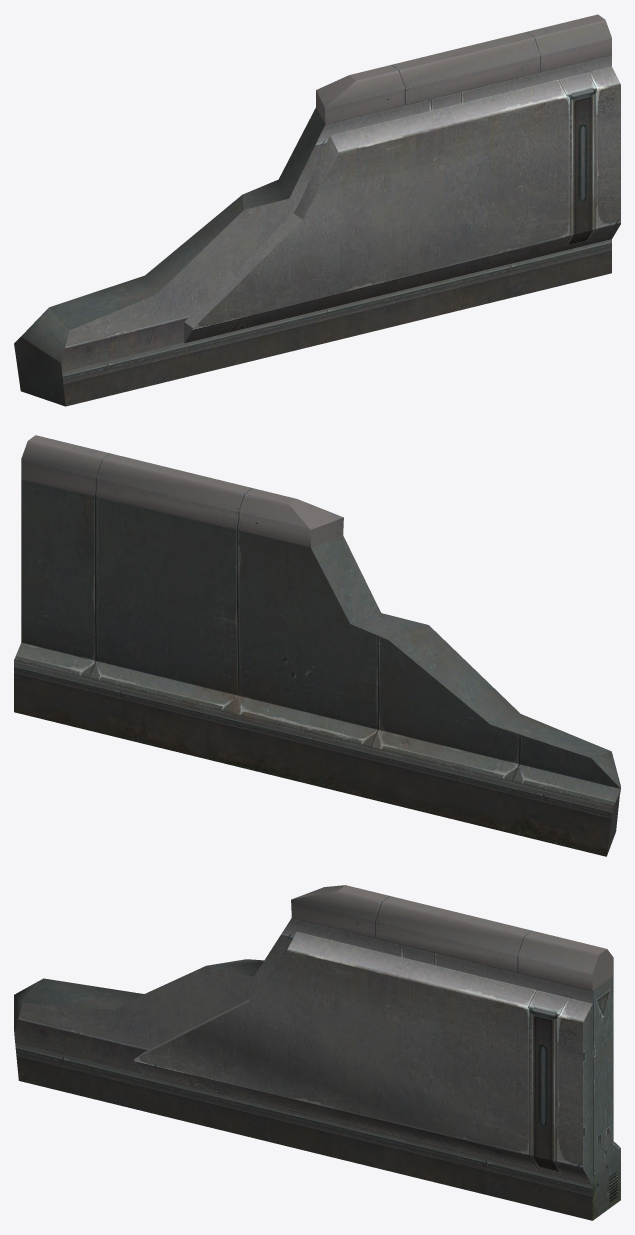
Rendered from Cover_Qiang09.glb.
3 renders of one model, top to bottom at view 1: azimuth 30°, elevation 25°; view 2: azimuth 150°, elevation 25°; view 3: azimuth 330°, elevation 25°, orthographic. The views are drawn at different scales.
Visible parts, largest first — view 1: xiutz_qiang09; view 2: xiutz_qiang09; view 3: xiutz_qiang09.
Part boxes in pixels (left/top/right/bottom): xiutz_qiang09: left=14, top=14, right=620, bottom=406; xiutz_qiang09: left=14, top=435, right=620, bottom=856; xiutz_qiang09: left=14, top=885, right=620, bottom=1220.
Bounding box in the file's own units: 8.22 × 3.42 × 0.8976.
1 material, 1 textured.
